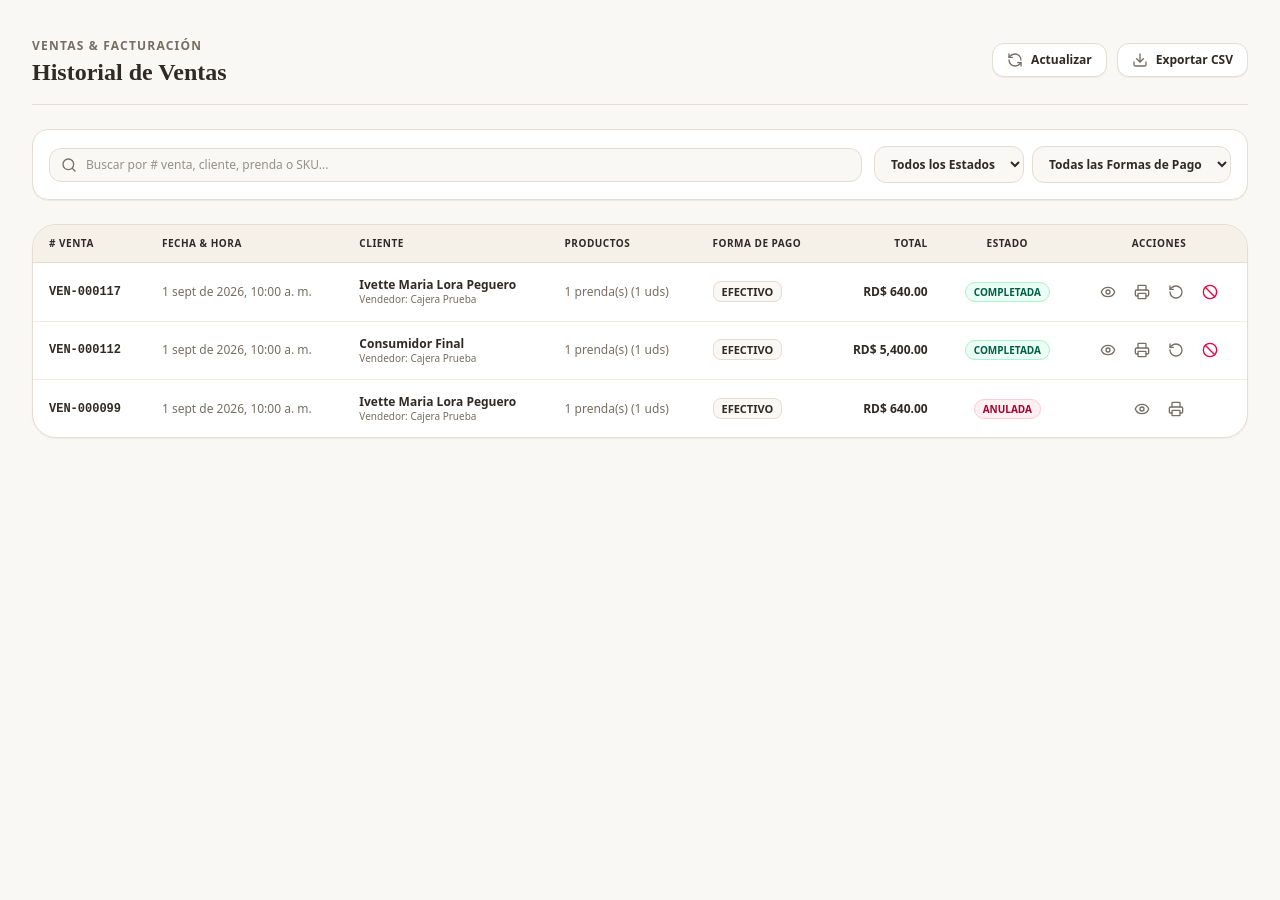
Test case: SalesView -- devolución directa desde Historial (botón + doble confirmación) › aceptar la primera confirmación (Continuar) muestra la segunda, independiente
Click the button named "Procesar devolución" in the row of "VEN-000117". click: (1176, 292)
box: [1162,278,1190,306]
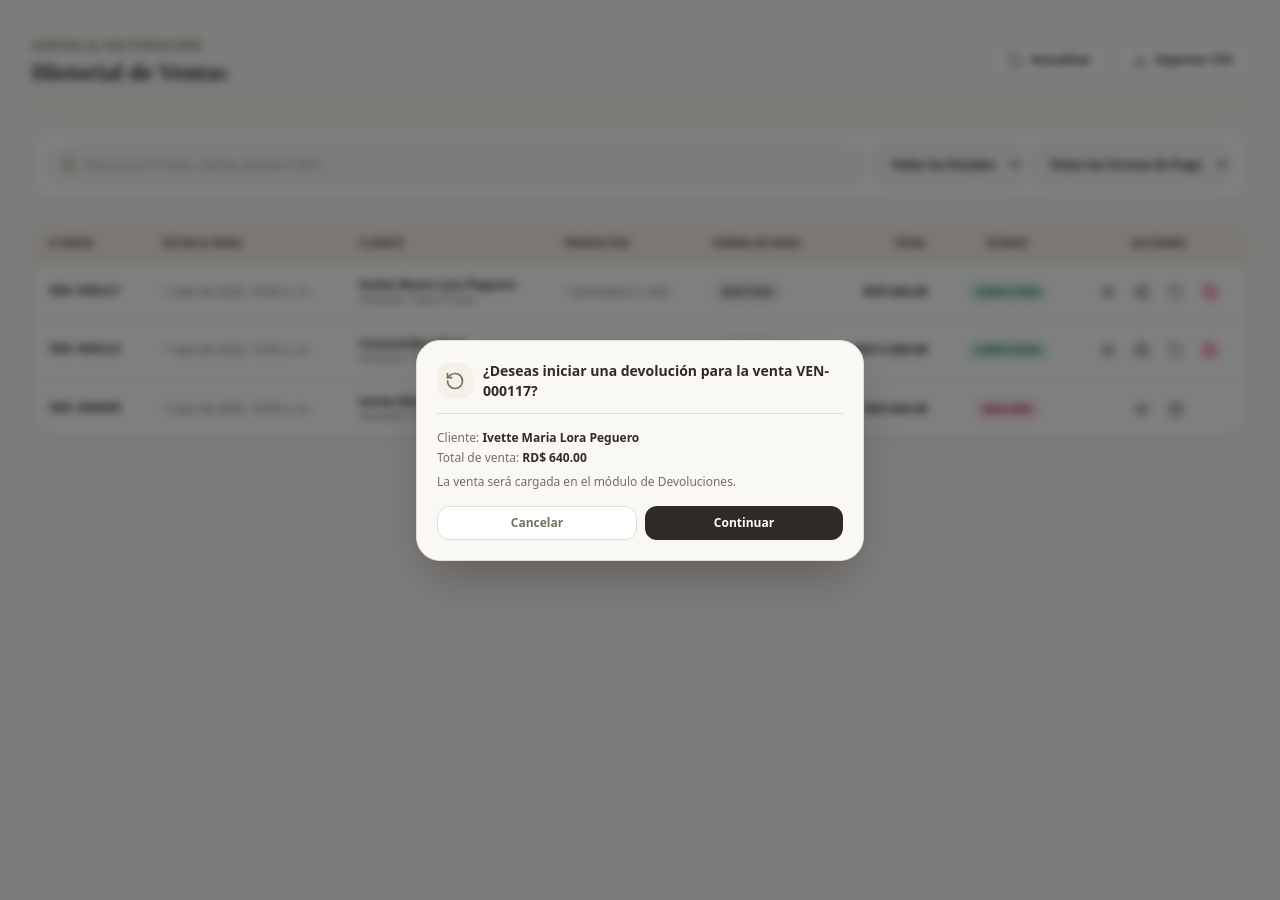
Click the button "Continuar". click: (744, 522)
box: [645,506,843,540]
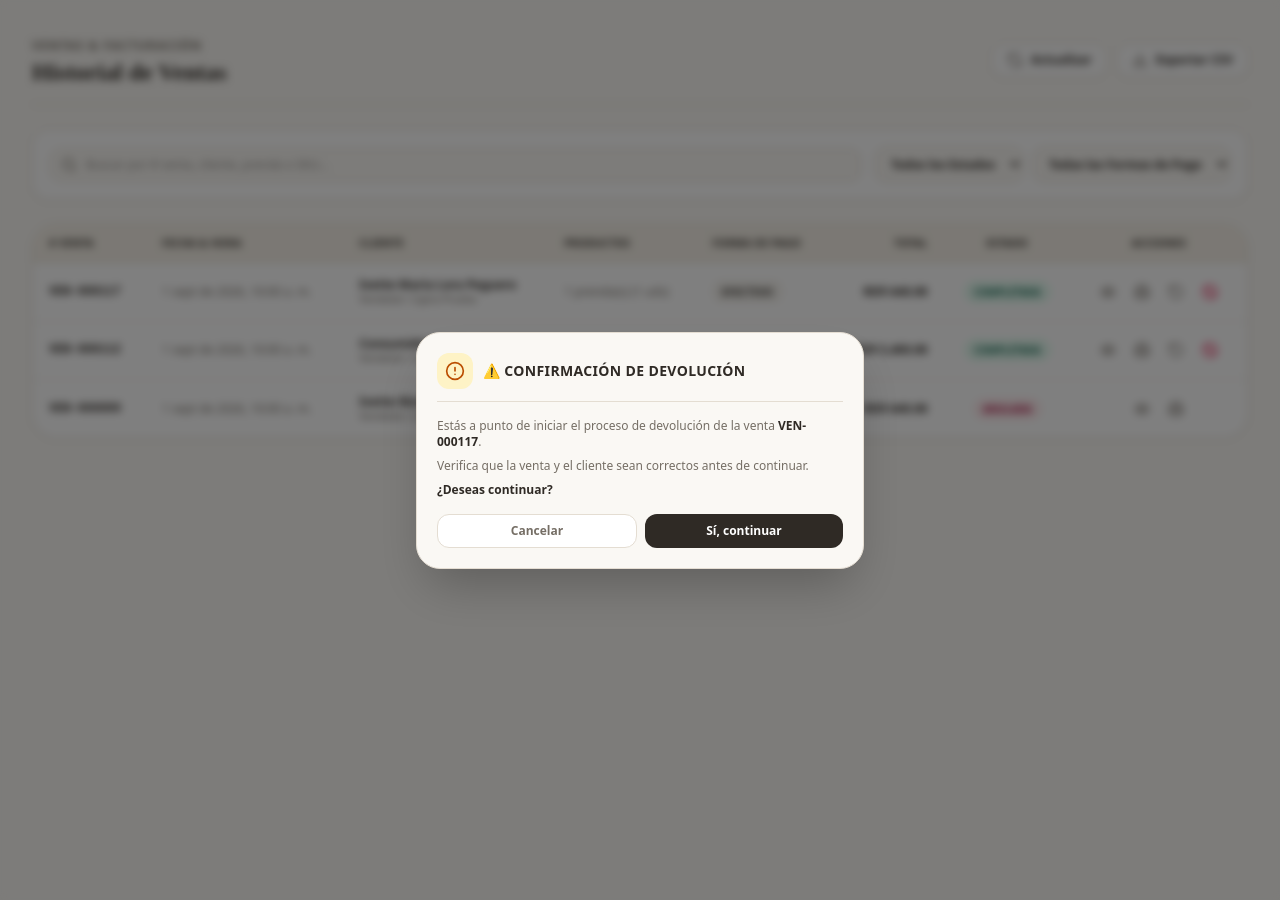
Expected: the heading "⚠️ Confirmación de Devolución" is shown, [483,360,746,380]
Expected: the text "Verifica que la venta y el cliente sean correctos antes de continuar." is shown, [437,458,843,474]
Expected: the heading "¿Deseas iniciar una devolución para la venta VEN-000117?" is gone
